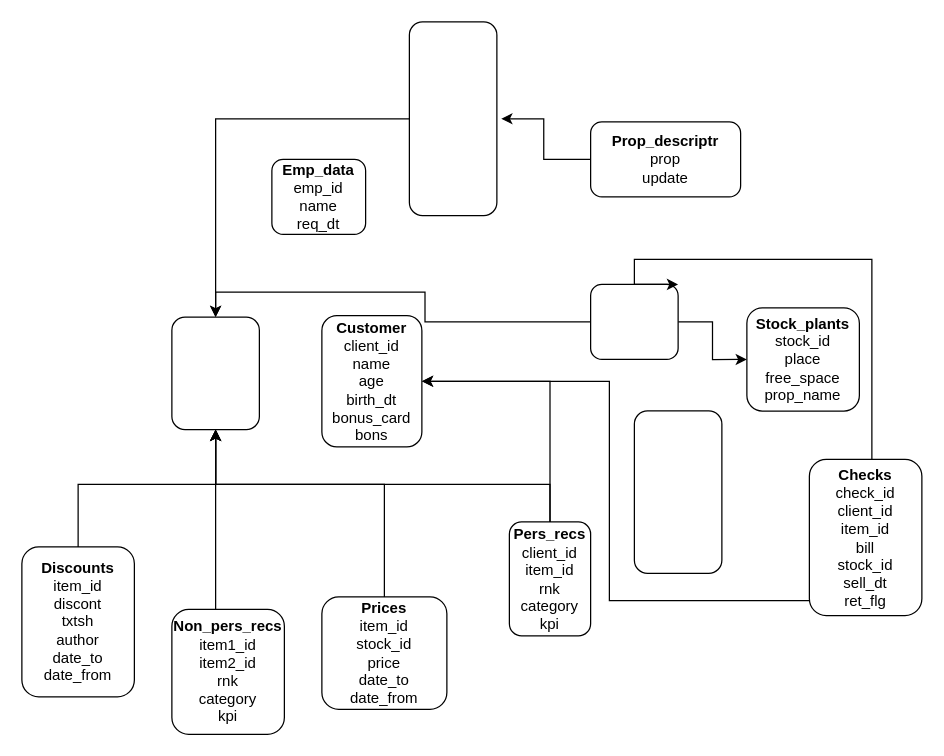
Some shapes in this 944 by 756 pixel diagram are drawn without their labels. The shapes that lost their labels are listed below. From the top down, each one's box as (x1, y1, x2, y2) in pixels, then its label:
(408, 21, 497, 216): Mat_prop item_id value prop_code update_time
(589, 283, 678, 359): Stars stock_id item_id star
(171, 316, 259, 430): Material item_id item_name category req_dt type
(633, 410, 722, 573): Order order_id order_dt client_id item_id channel store_id
